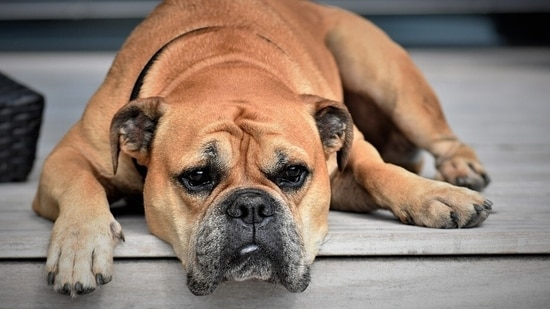dog: (112, 56, 333, 296)
